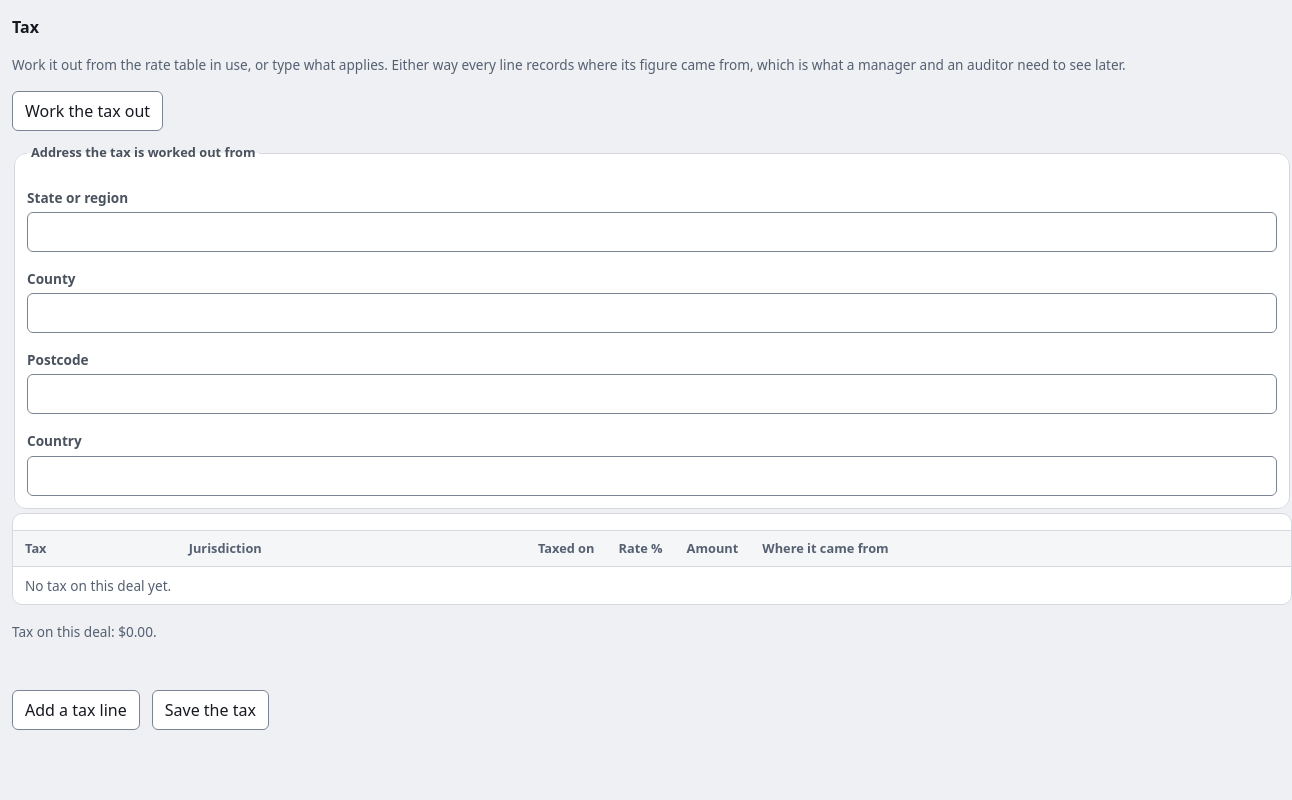
Scenario: working the tax out from the rate table › draws what the server worked out, and names the pack on the row
Click the button "Work the tax out" at (88, 112), box [12,92,163,132]
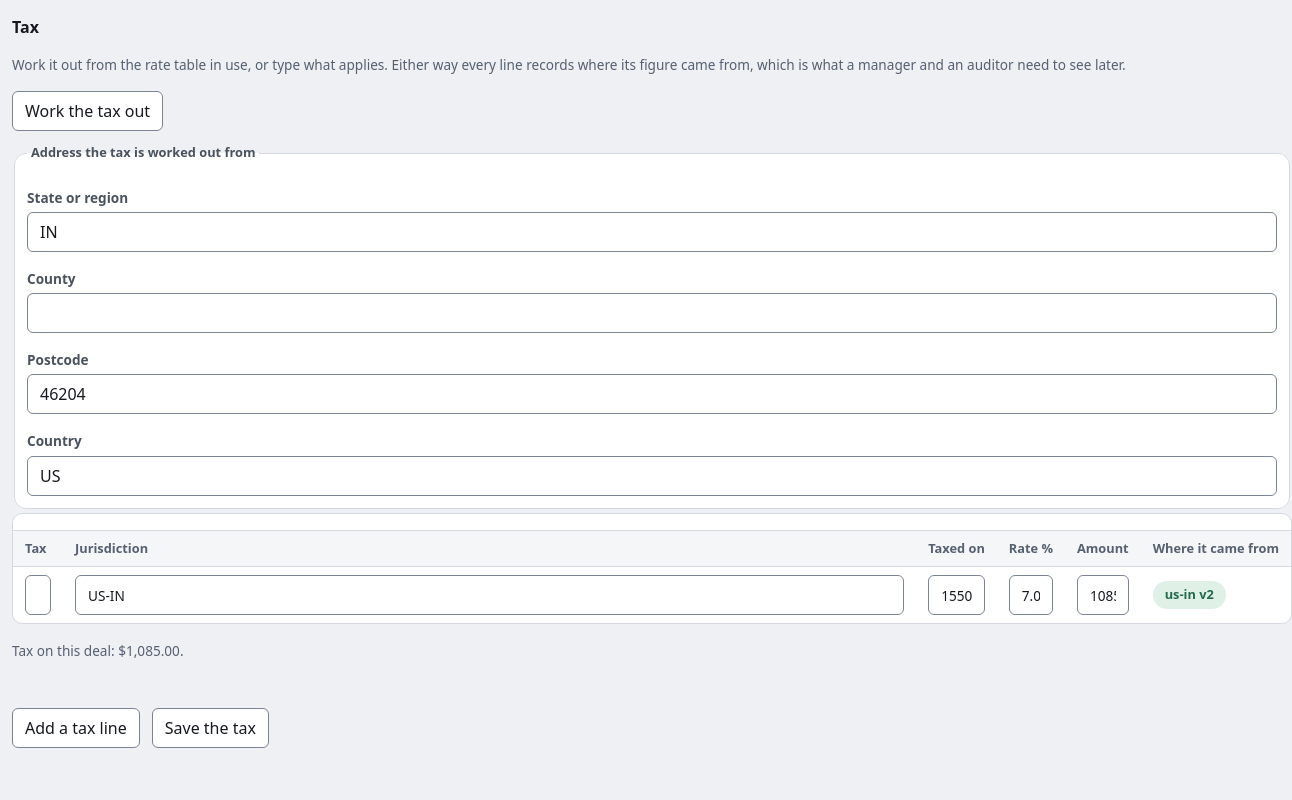
Check: the field named "Tax charged on line 1" holds "1085", box [1077,575,1129,615]
Check: the text "us-in v2" is shown, box [1153,581,1226,609]
Check: the field labelled "State or region" holds "IN", box [27,212,1277,252]
